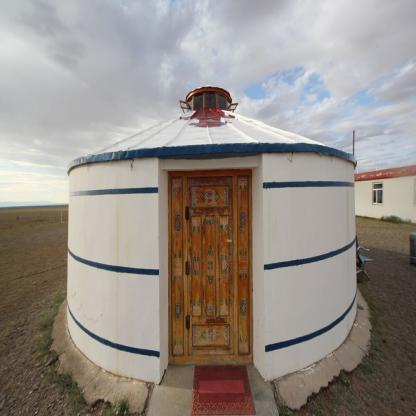Building Outline: (67, 85, 357, 385)
Dont: (191, 366, 256, 415)
Door: (168, 170, 253, 365)
Door Hole: (158, 153, 265, 385)
Facade: (85, 157, 332, 356)
Ground Floor: (67, 153, 357, 385)
Roof: (67, 108, 357, 174)
Window: (205, 92, 217, 108), (193, 93, 203, 110), (218, 94, 227, 110), (188, 98, 192, 112), (227, 100, 231, 112)
